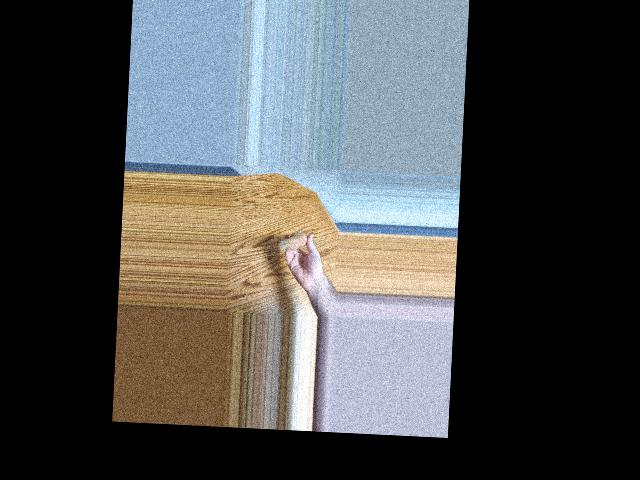sweet_potato: (278, 234, 309, 254)
